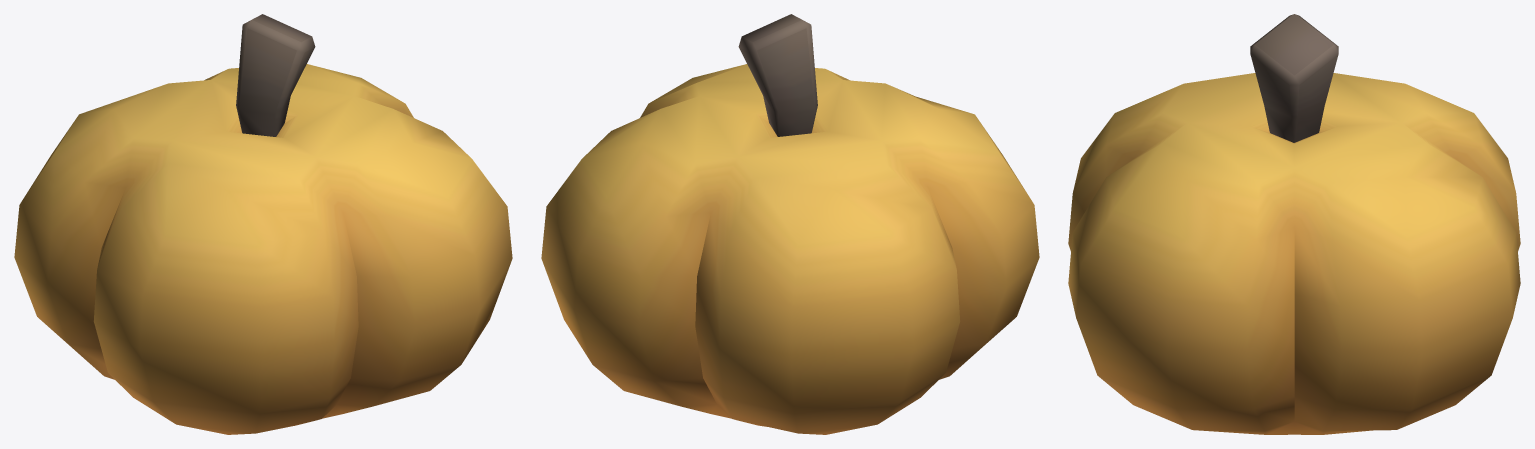
Rendered from kay-abobora-amarela-pequena.gltf.
3 renders of one model, left to right at view 1: azimuth 30°, elevation 25°; view 2: azimuth 150°, elevation 25°; view 3: azimuth 270°, elevation 25°, orthographic.
Visible parts, largest first — view 1: pumpkin_yellow_small; view 2: pumpkin_yellow_small; view 3: pumpkin_yellow_small.
Part boxes in pixels (x1=…): pumpkin_yellow_small: x1=14, y1=14, x2=512, y2=434; pumpkin_yellow_small: x1=541, y1=14, x2=1039, y2=434; pumpkin_yellow_small: x1=1068, y1=14, x2=1520, y2=434.
Size of the model in its own units: 0.3 by 0.275 by 0.3.
Materials: 1 (1 with a texture image).
